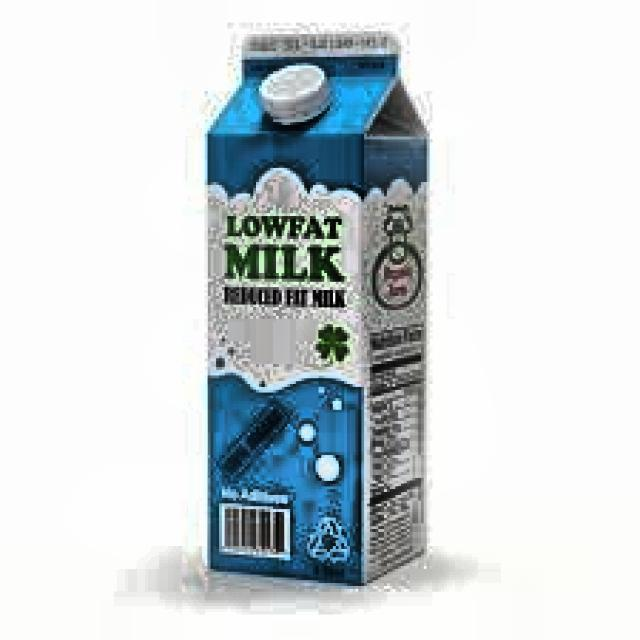cardboard: (202, 28, 430, 586)
